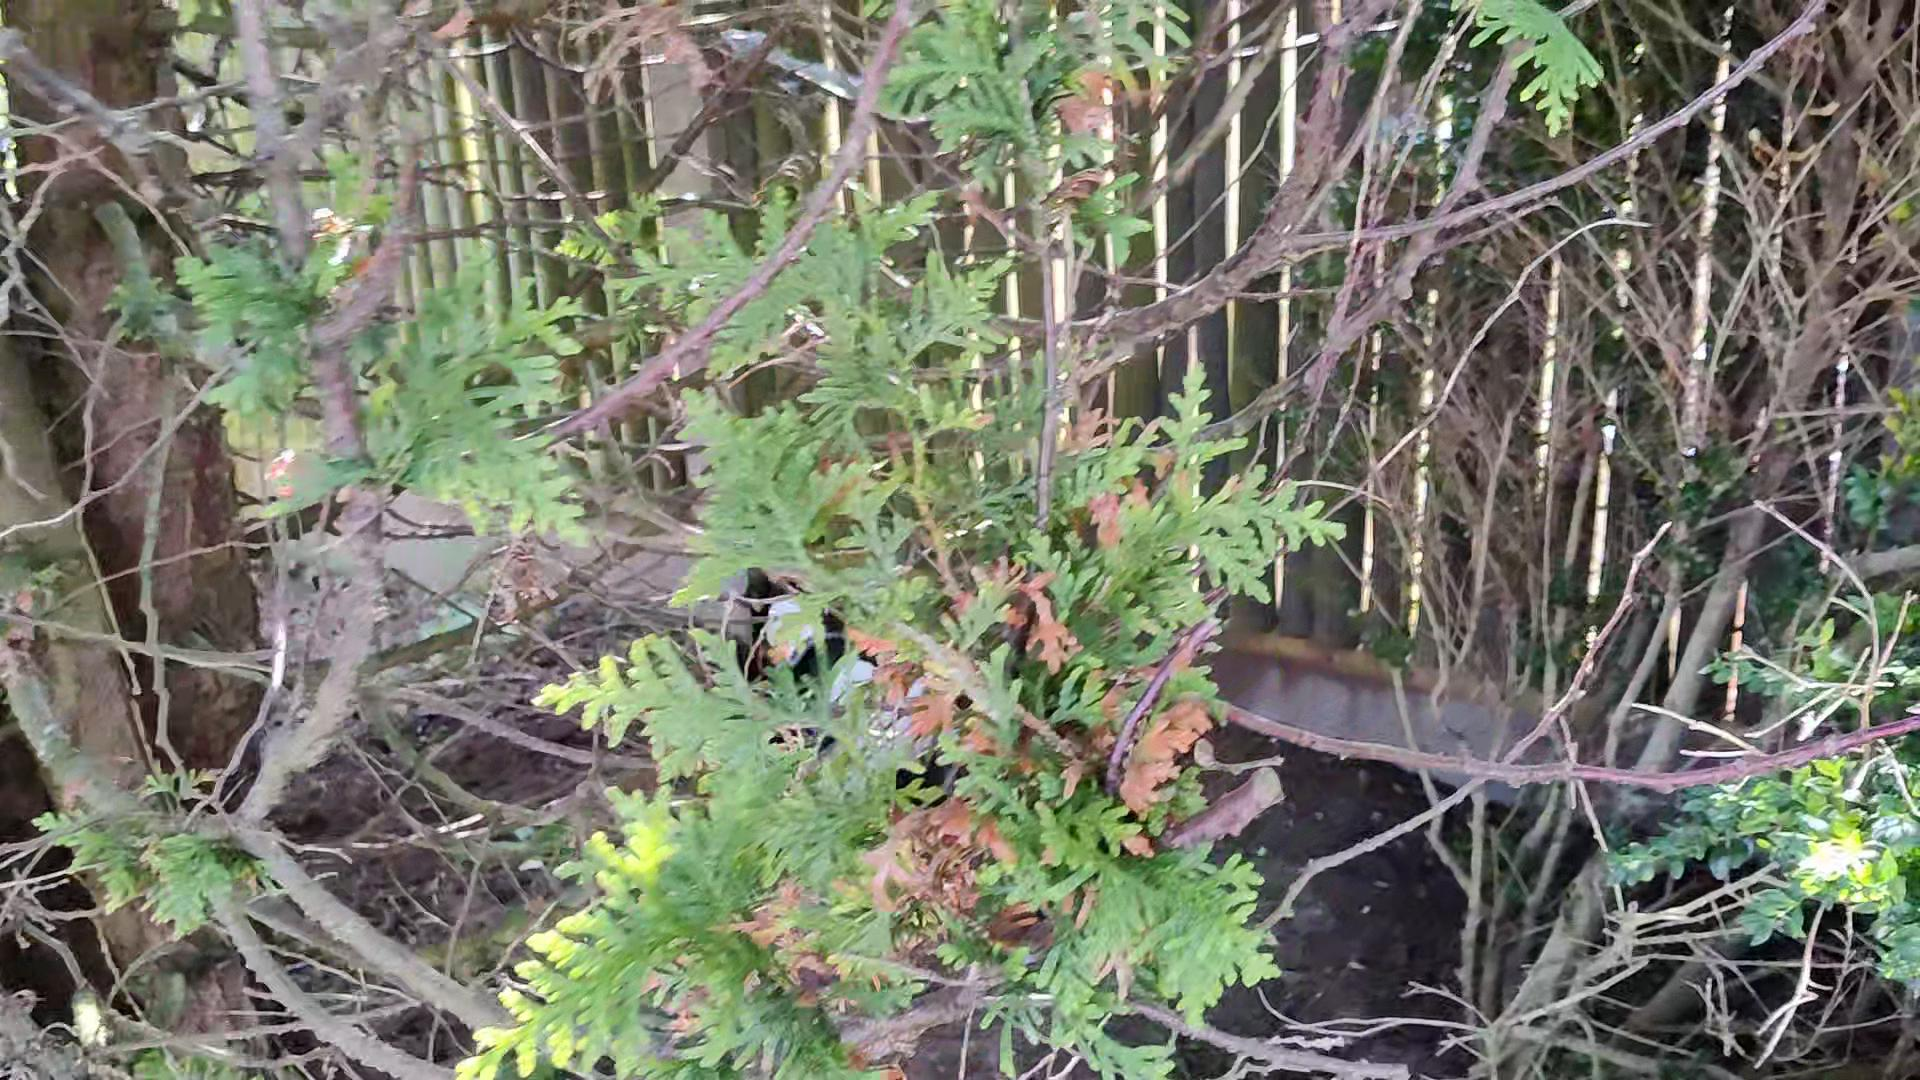Dog: (735, 555, 922, 767)
